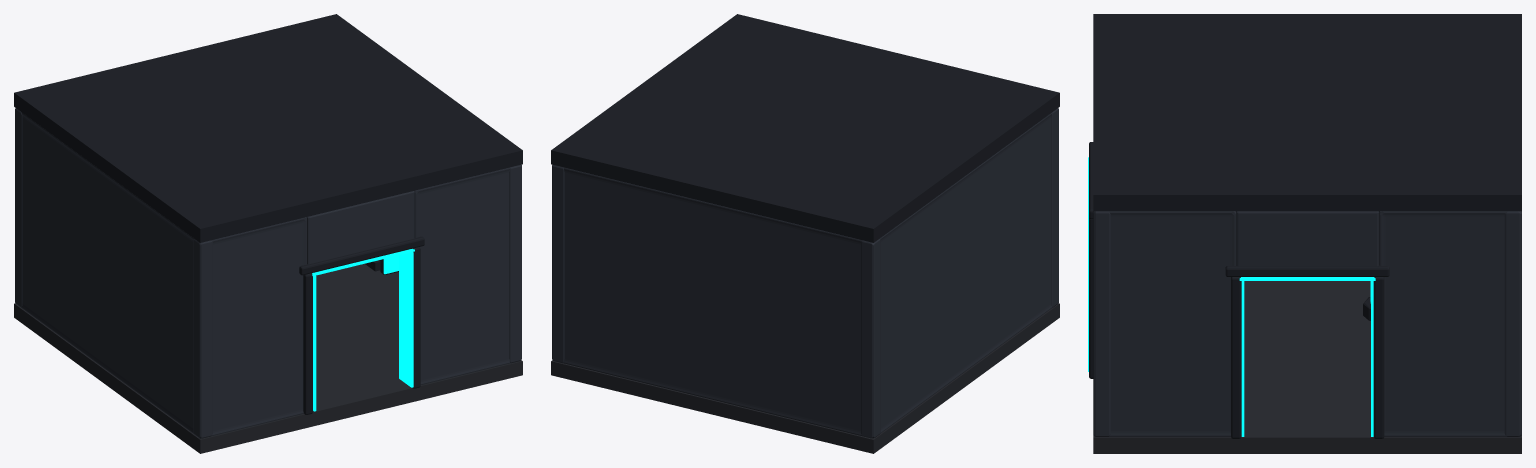
The model's file is Mod_Hallway_Corner.fbx.
3 views of the same model, side by side, from view 1: azimuth 30°, elevation 25°; view 2: azimuth 150°, elevation 25°; view 3: azimuth 270°, elevation 25° (orthographic). The views are drawn at different scales.
Parts seen in each view (by area): view 1: Mod_Hallway_Corner__SteelPanel, Mod_Hallway_Corner__DarkMetal, Mod_Hallway_Corner__ConcreteFloor, Mod_Hallway_Corner__NeonCyan; view 2: Mod_Hallway_Corner__SteelPanel, Mod_Hallway_Corner__DarkMetal, Mod_Hallway_Corner__ConcreteFloor; view 3: Mod_Hallway_Corner__DarkMetal, Mod_Hallway_Corner__SteelPanel, Mod_Hallway_Corner__ConcreteFloor, Mod_Hallway_Corner__NeonCyan.
Part boxes in pixels (bbox=[...]): Mod_Hallway_Corner__SteelPanel: bbox=[15, 108, 521, 438]; Mod_Hallway_Corner__DarkMetal: bbox=[14, 14, 522, 414]; Mod_Hallway_Corner__ConcreteFloor: bbox=[14, 264, 522, 453]; Mod_Hallway_Corner__NeonCyan: bbox=[312, 248, 414, 411]; Mod_Hallway_Corner__SteelPanel: bbox=[552, 108, 1058, 438]; Mod_Hallway_Corner__DarkMetal: bbox=[551, 14, 1059, 242]; Mod_Hallway_Corner__ConcreteFloor: bbox=[551, 303, 1059, 453]; Mod_Hallway_Corner__DarkMetal: bbox=[1089, 14, 1521, 438]; Mod_Hallway_Corner__SteelPanel: bbox=[1093, 211, 1521, 436]; Mod_Hallway_Corner__ConcreteFloor: bbox=[1093, 281, 1521, 453]; Mod_Hallway_Corner__NeonCyan: bbox=[1088, 157, 1375, 436].
Size of the model in its own units: 24.3 by 16 by 24.3.
